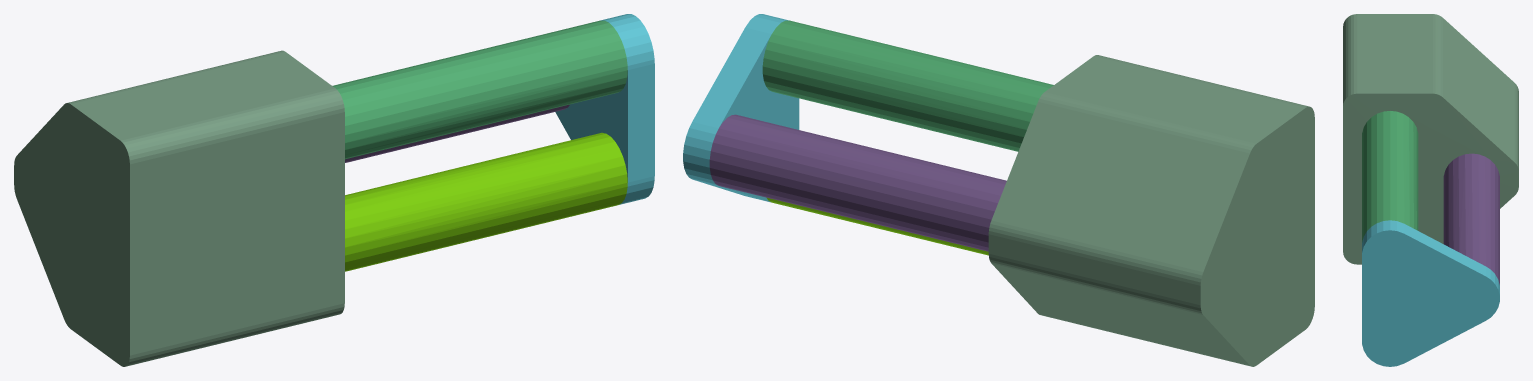
Rendered from peg_31_body.obj.
3 views of the same model, side by side, from view 1: azimuth 30°, elevation 25°; view 2: azimuth 150°, elevation 25°; view 3: azimuth 270°, elevation 25° (orthographic). The views are drawn at different scales.
Parts seen in each view (by area): view 1: geometry_0, geometry_3, geometry_4, geometry_2, geometry_1; view 2: geometry_0, geometry_1, geometry_3, geometry_2, geometry_4; view 3: geometry_0, geometry_2, geometry_3, geometry_1.
Boxes of the visible parts, x1,y1,x2,y2 form: geometry_0: (14, 50, 344, 366); geometry_3: (332, 20, 627, 159); geometry_4: (345, 132, 627, 271); geometry_2: (555, 14, 654, 204); geometry_1: (345, 104, 569, 162); geometry_0: (988, 55, 1314, 366); geometry_1: (709, 114, 1006, 251); geometry_3: (762, 20, 1053, 151); geometry_2: (683, 14, 799, 202); geometry_4: (767, 198, 988, 255); geometry_0: (1343, 14, 1518, 264); geometry_2: (1362, 220, 1499, 366); geometry_3: (1362, 111, 1418, 242); geometry_1: (1443, 153, 1499, 284).
Bounding box in the file's own units: 0.1 × 0.04 × 0.0373.
